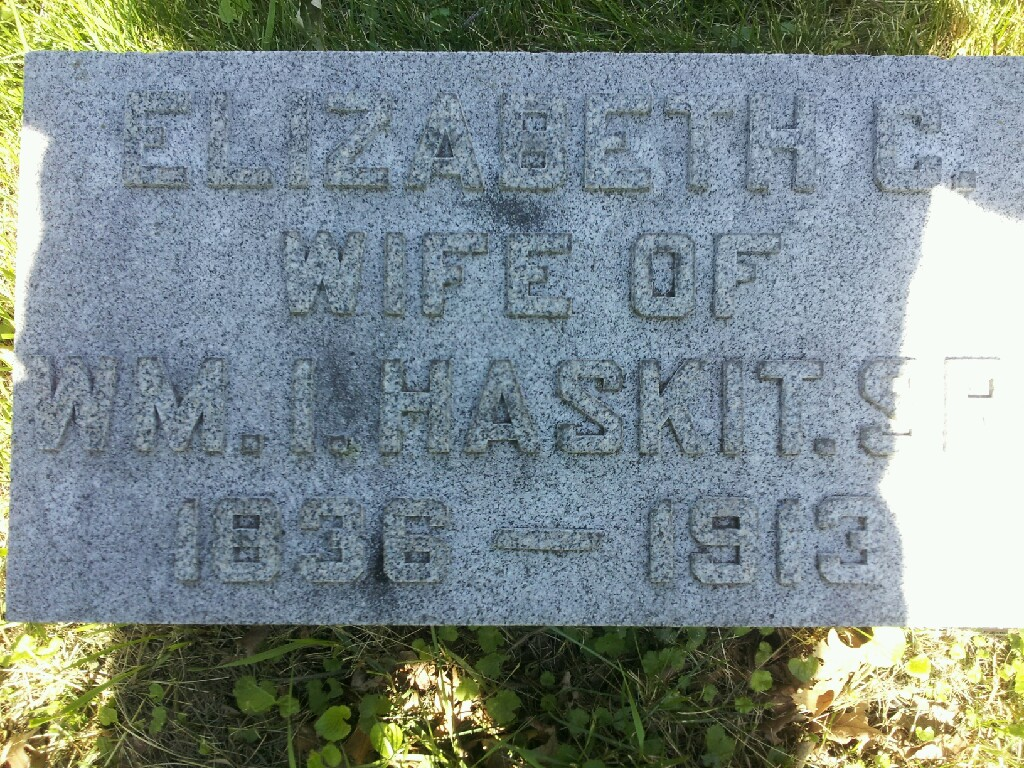flat: (2, 47, 1022, 628)
